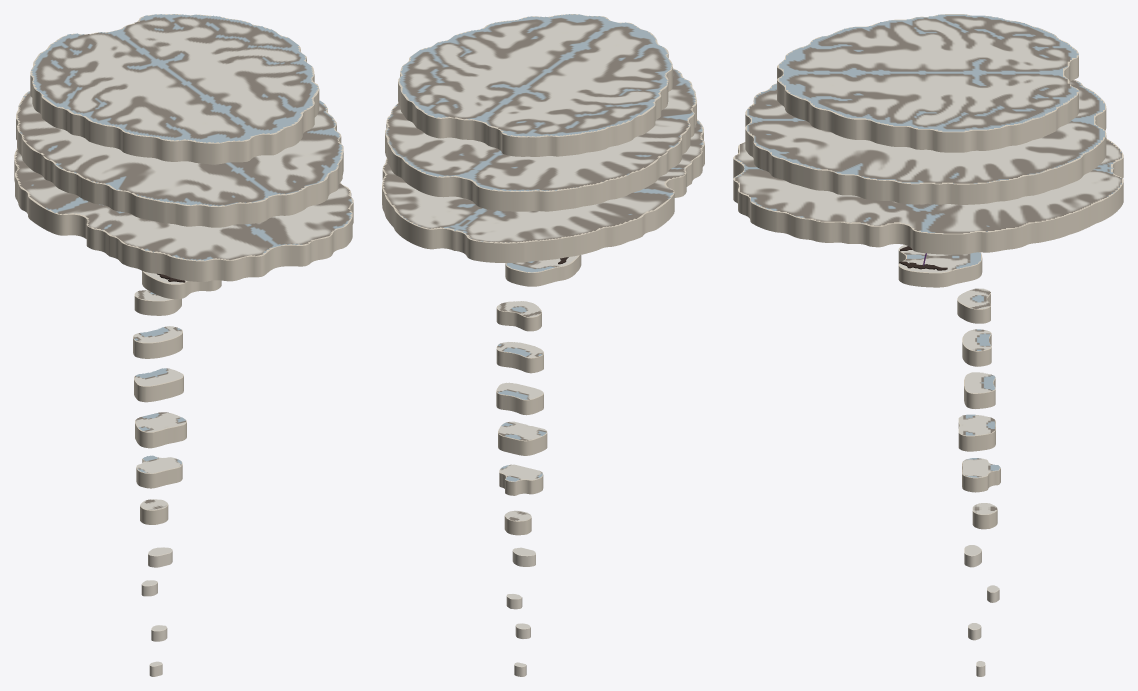
3 renders of one model, left to right at view 1: azimuth 30°, elevation 25°; view 2: azimuth 150°, elevation 25°; view 3: azimuth 270°, elevation 25°, orthographic. The views are drawn at different scales.
Visible parts, largest first — view 1: L15·切面（灰白质）, L14·切面（灰白质）, L13·切面（灰白质）, L13·背景·丘脑内囊, L14·背景·放射冠, L15·背景·皮质上部, L11·背景·下丘, L07·背景·橄榄中部, L09·背景·脑桥中部, L08·背景·脑桥下部, L06·背景·丘系交叉, L10·背景·脑桥上部 (+4 smaller); view 2: L15·切面（灰白质）, L14·切面（灰白质）, L13·切面（灰白质）, L13·背景·丘脑内囊, L14·背景·放射冠, L15·背景·皮质上部, L11·背景·下丘, L07·背景·橄榄中部, L09·背景·脑桥中部, L08·背景·脑桥下部, L10·背景·脑桥上部, L06·背景·丘系交叉 (+6 smaller); view 3: L15·切面（灰白质）, L14·切面（灰白质）, L13·切面（灰白质）, L13·背景·丘脑内囊, L14·背景·放射冠, L15·背景·皮质上部, L11·背景·下丘, L11·切面（灰白质）, L07·切面（灰白质）, L07·背景·橄榄中部, L06·背景·丘系交叉, L08·切面（灰白质）.
Part boxes in pixels (bbox=[...]): L15·切面（灰白质）: bbox=[31, 14, 318, 142]; L14·切面（灰白质）: bbox=[17, 91, 342, 206]; L13·切面（灰白质）: bbox=[15, 150, 352, 260]; L13·背景·丘脑内囊: bbox=[14, 148, 353, 281]; L14·背景·放射冠: bbox=[16, 91, 343, 227]; L15·背景·皮质上部: bbox=[30, 14, 319, 164]; L11·背景·下丘: bbox=[142, 271, 221, 299]; L07·背景·橄榄中部: bbox=[135, 413, 186, 448]; L09·背景·脑桥中部: bbox=[133, 329, 182, 358]; L08·背景·脑桥下部: bbox=[134, 373, 183, 402]; L06·背景·丘系交叉: bbox=[136, 458, 182, 488]; L10·背景·脑桥上部: bbox=[134, 293, 181, 315]; L15·切面（灰白质）: bbox=[399, 14, 671, 136]; L14·切面（灰白质）: bbox=[385, 68, 695, 191]; L13·切面（灰白质）: bbox=[383, 121, 703, 242]; L13·背景·丘脑内囊: bbox=[382, 119, 704, 263]; L14·背景·放射冠: bbox=[385, 68, 696, 211]; L15·背景·皮质上部: bbox=[398, 14, 672, 156]; L11·背景·下丘: bbox=[505, 255, 581, 286]; L07·背景·橄榄中部: bbox=[498, 423, 547, 455]; L09·背景·脑桥中部: bbox=[496, 344, 543, 373]; L08·背景·脑桥下部: bbox=[496, 384, 543, 415]; L10·背景·脑桥上部: bbox=[496, 301, 541, 331]; L06·背景·丘系交叉: bbox=[499, 467, 543, 495]; L15·切面（灰白质）: bbox=[779, 14, 1078, 131]; L14·切面（灰白质）: bbox=[747, 80, 1104, 183]; L13·切面（灰白质）: bbox=[735, 138, 1121, 233]; L13·背景·丘脑内囊: bbox=[733, 139, 1123, 254]; L14·背景·放射冠: bbox=[745, 79, 1106, 204]; L15·背景·皮质上部: bbox=[777, 14, 1078, 152]; L11·背景·下丘: bbox=[898, 245, 982, 287]; L11·切面（灰白质）: bbox=[900, 245, 980, 272]; L07·切面（灰白质）: bbox=[959, 414, 995, 435]; L07·背景·橄榄中部: bbox=[958, 418, 995, 451]; L06·背景·丘系交叉: bbox=[962, 460, 1000, 492]; L08·切面（灰白质）: bbox=[965, 372, 995, 393].
Size of the model in its own units: 13.92 by 29.72 by 17.47.
